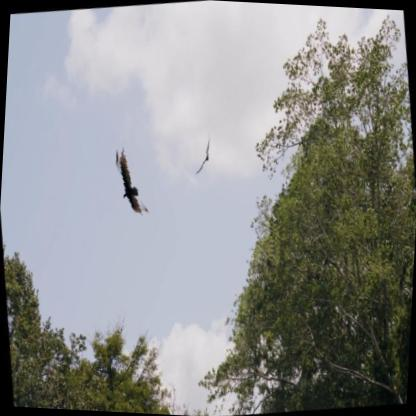bird: (107, 142, 157, 220), (188, 127, 219, 178)
